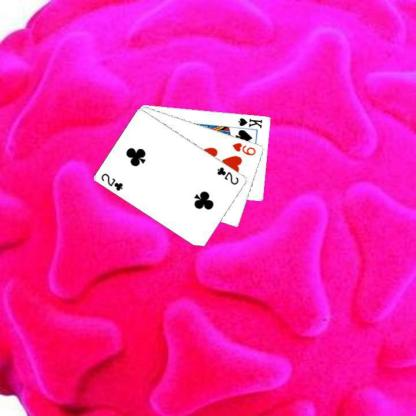2C: (214, 164, 240, 186), (99, 170, 124, 192)
9H: (230, 140, 257, 156)
KS: (236, 115, 264, 129)
